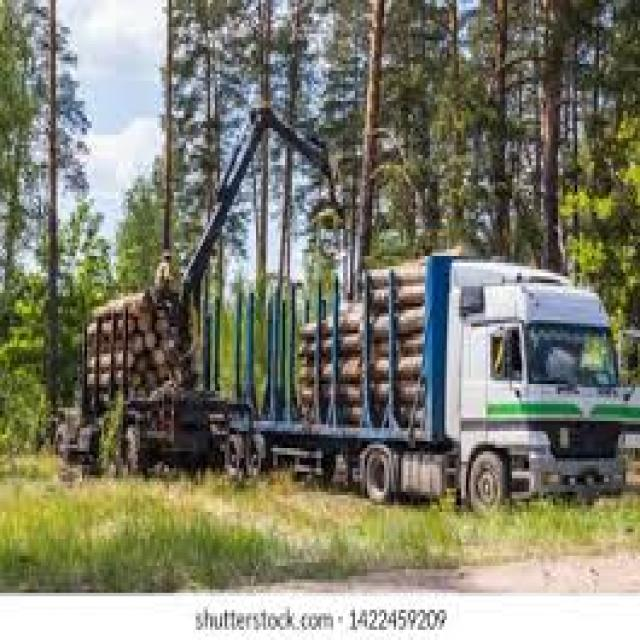Truck: (244, 246, 625, 510)
